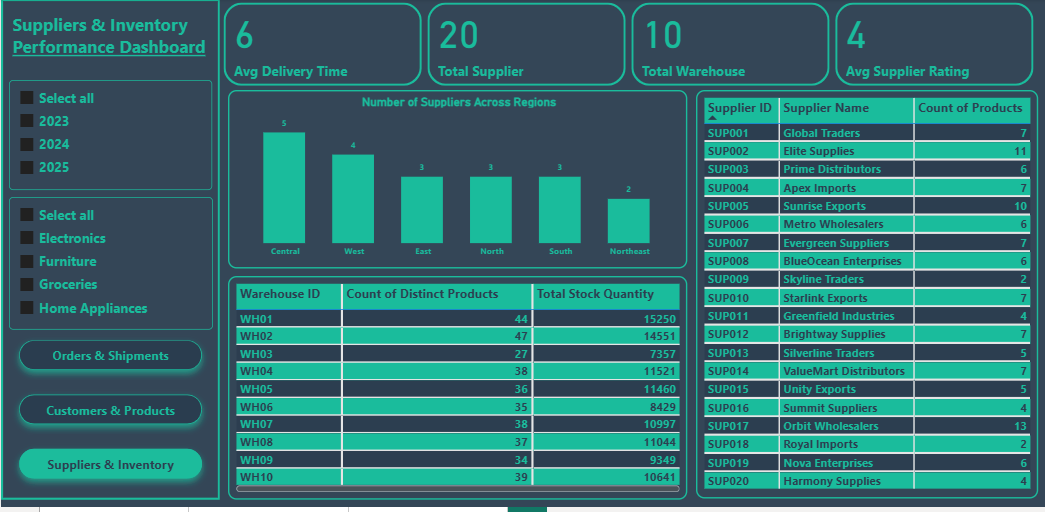

Layout of this report page (visuals, bound fields, positions):
{"tool":"powerbi","page":{"name":"Suppliers & Inventory","canvas":[1480,720],"ordinal":2},"visuals":[{"type":"group","id":"g1","title":"Group 1","box":[0,0,310.3,709.8],"z":0},{"type":"shape","box":[0,0,310.3,709.8],"z":0,"group":"g1"},{"type":"cardVisual","fields":{"Data":["Table_measure.avg_delivery_time","Table_measure.total_supplier","Table_measure.total_warehouse","Table_measure.avg_supplier_rating"]},"box":[310.4,0,1159.4,129],"z":1000},{"type":"textbox","box":[11.3,14.2,333.1,82.2],"z":2000},{"type":"slicer","fields":{"Values":["Calender_table.year"]},"box":[11.8,114.8,288.3,155.9],"z":3000},{"type":"clusteredColumnChart","title":"Number of Suppliers Across Regions","fields":{"Category":["supply_chain suppliers.region"],"Y":["CountNonNull(supply_chain suppliers.supplier_id)"]},"box":[321.5,128.9,650.9,253],"z":4000},{"type":"tableEx","fields":{"Values":["supply_chain products.supplier_id","supply_chain suppliers.supplier_name","Count(supply_chain products.product_id)"]},"box":[985.1,128.9,485.4,579.3],"z":5000},{"type":"slicer","fields":{"Values":["supply_chain products.category"]},"box":[11.6,281.3,289,188.4],"z":6000},{"type":"tableEx","fields":{"Values":["supply_chain inventory.warehouse_id","supply_chain inventory.product_id","Sum(supply_chain inventory.stock_quantity)"]},"box":[321.5,393.1,650.9,316.7],"z":7000},{"type":"pageNavigator","box":[11.1,469.5,288,227.6],"z":7000,"group":"g1"}]}

Visuals, with their boxes in screenshot pixels (x1, y1, x2, y2), scaled from the page's 1480x720 canvas onto the 1045x512 screenshot:
"Group 1" group: <region>0, 0, 219, 505</region>
shape: <region>0, 0, 219, 505</region>
cardVisual - Table_measure.avg_delivery_time x Table_measure.total_supplier: <region>219, 0, 1038, 92</region>
textbox: <region>8, 10, 243, 69</region>
slicer - Calender_table.year: <region>8, 82, 212, 192</region>
"Number of Suppliers Across Regions" clusteredColumnChart: <region>227, 92, 687, 272</region>
tableEx - supply_chain products.supplier_id x supply_chain suppliers.supplier_name: <region>696, 92, 1038, 504</region>
slicer - supply_chain products.category: <region>8, 200, 212, 334</region>
tableEx - supply_chain inventory.warehouse_id x supply_chain inventory.product_id: <region>227, 280, 687, 505</region>
pageNavigator: <region>8, 334, 211, 496</region>
